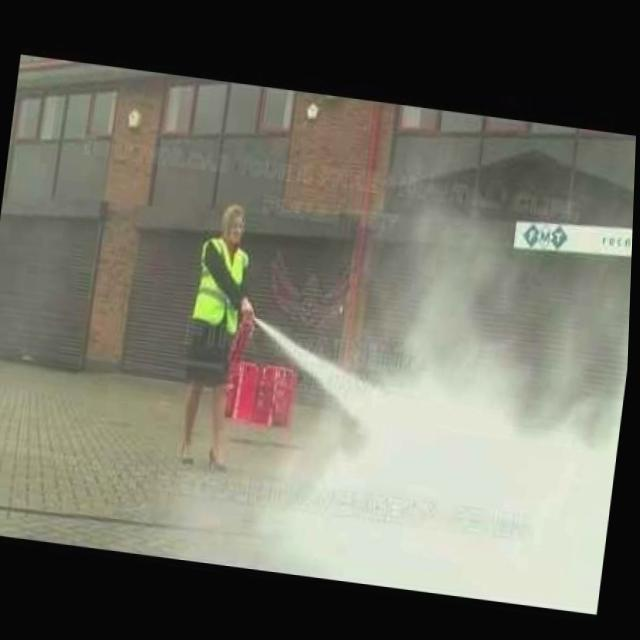FireExtinguisher: (228, 297, 263, 359)
